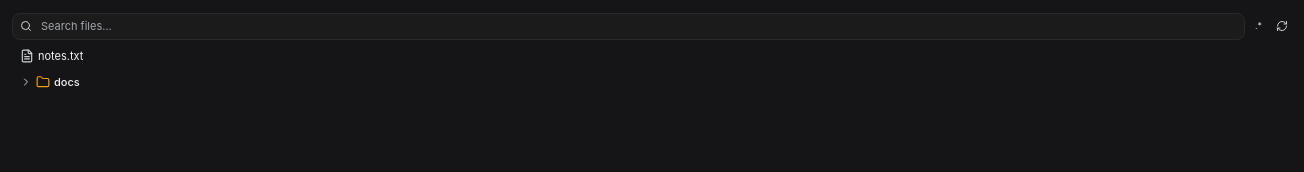
it: FileExplorer browser › clears search and returns to the tree
Type "zzz" into the field with test id "file-search" at (628, 26), box 12,13 -> 1245,40
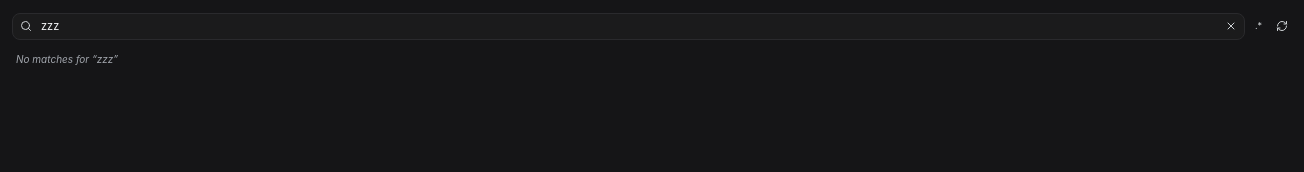
Expected: the text "No matches for “zzz”" is shown, 16,52 -> 118,64
Click the button with test id "file-search-clear" at (1231, 26), box 1223,18 -> 1239,34
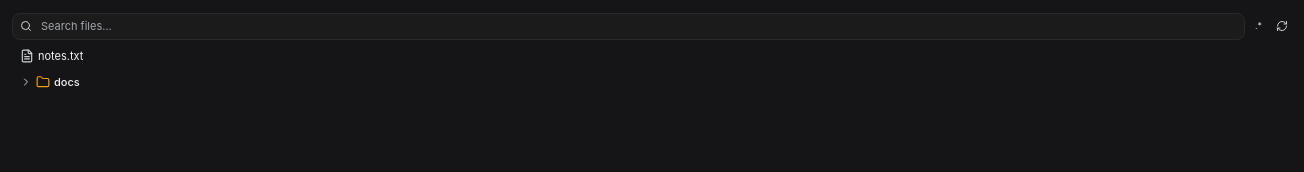
Expected: the element with test id "file-tree" is shown, 20,48 -> 83,89
